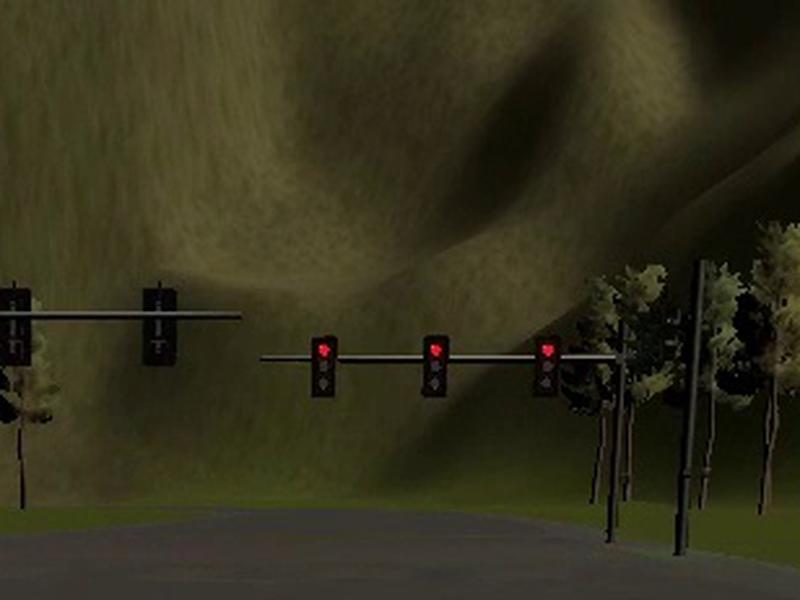Red: (532, 336, 560, 397), (424, 335, 450, 397), (312, 334, 337, 398)
